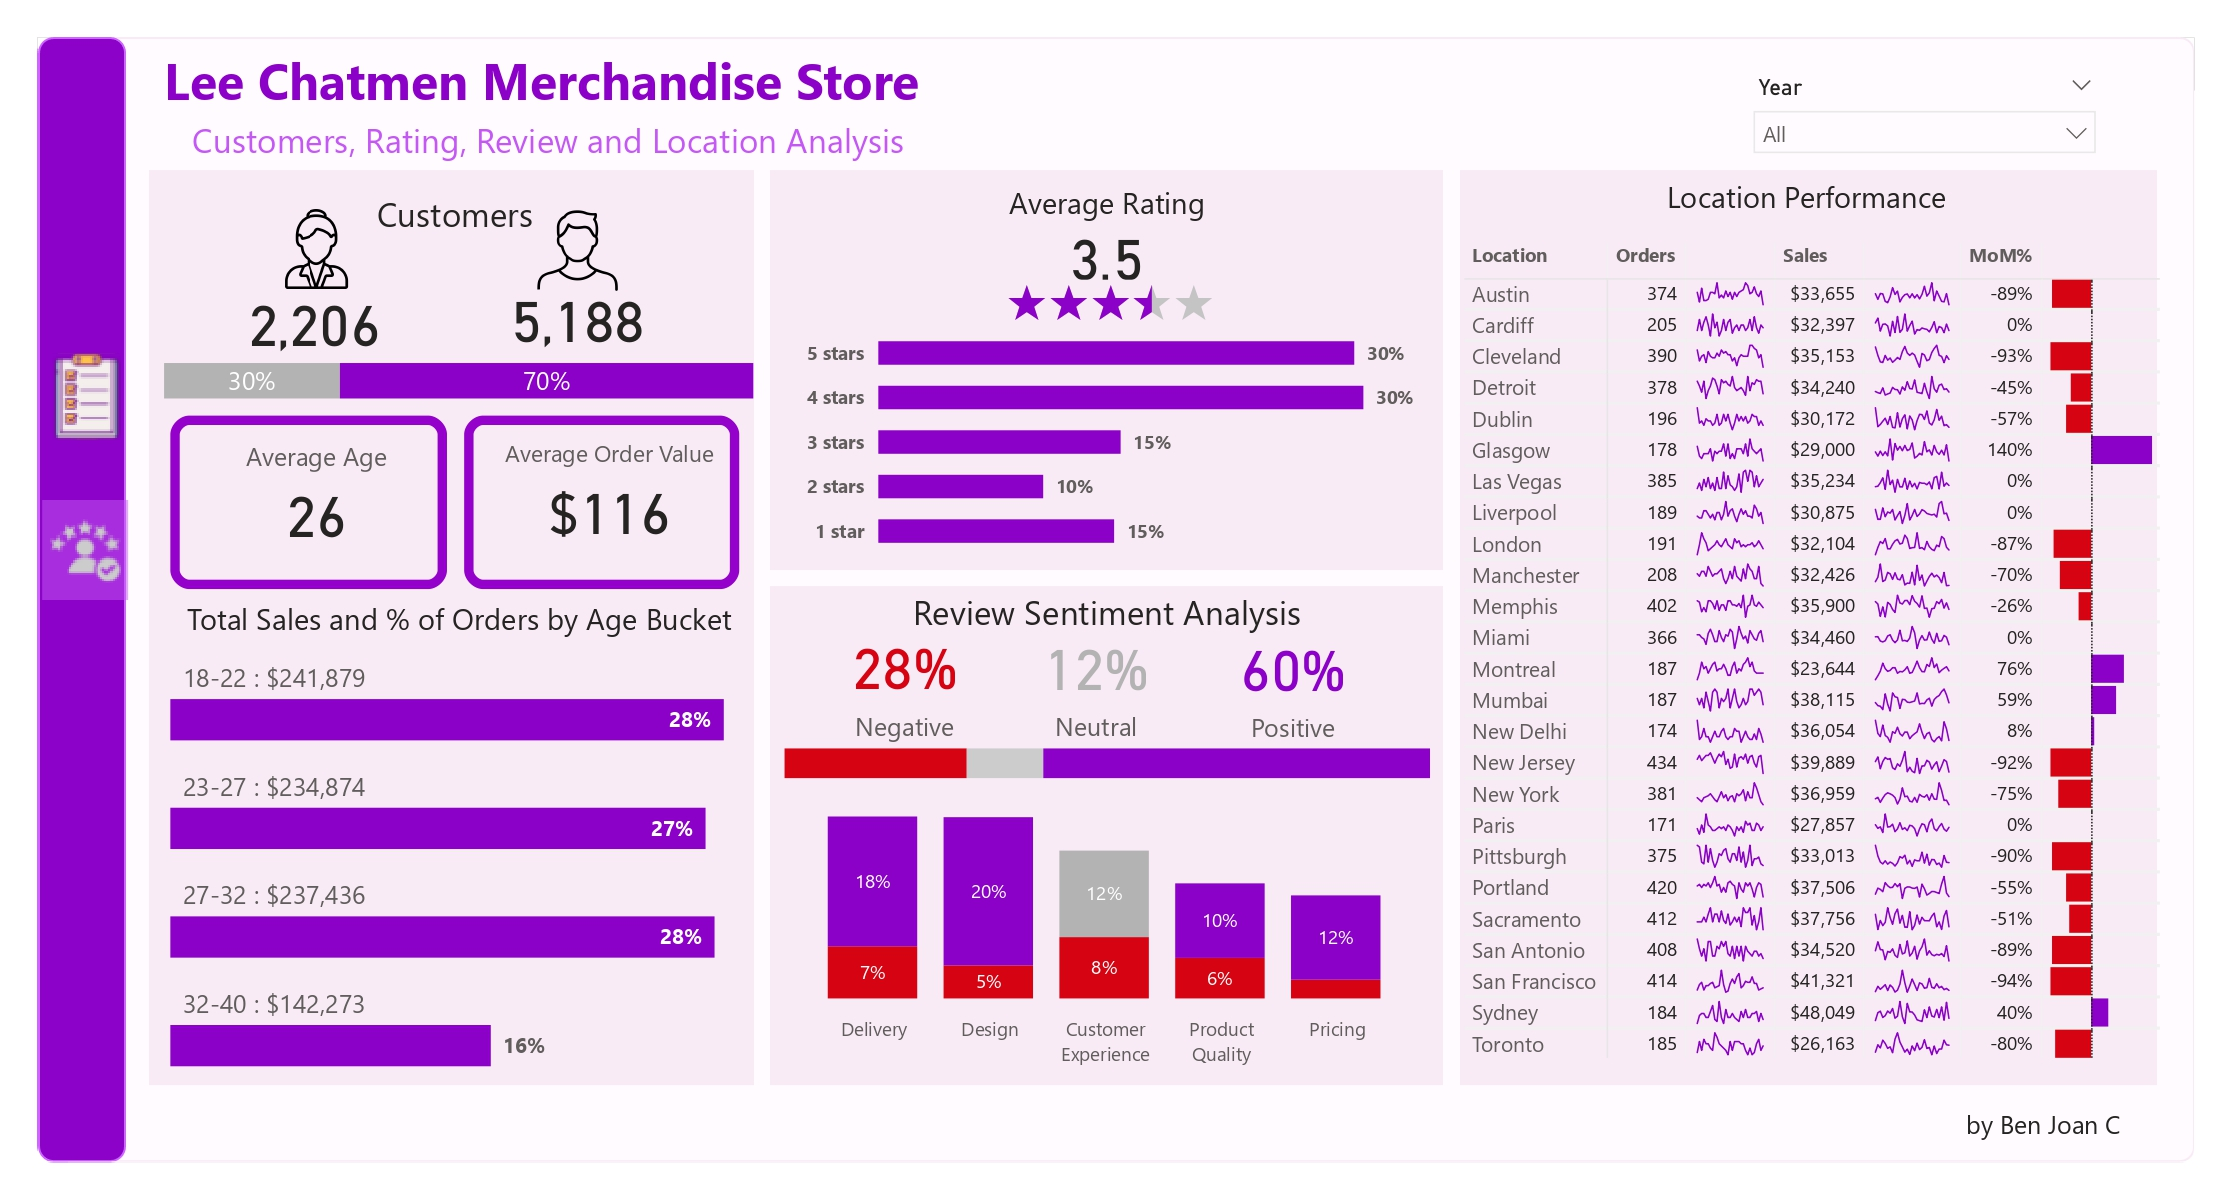

Layout of this report page (visuals, bound fields, positions):
{"tool":"powerbi","page":{"name":"Customers & Review","canvas":[1380,720],"ordinal":1},"visuals":[{"type":"card","title":"Average Rating","fields":{"Values":["_Measures._avg rating"]},"box":[549.4,92.7,270.2,67],"z":0},{"type":"hundredPercentStackedBarChart","fields":{"Y":["_Measures._No of orders"],"Series":["Fact_Data.Buyer Gender"]},"box":[75.9,169.7,387.5,92.7],"z":1000},{"type":"cardVisual","fields":{"Data":["_Measures.Average Order VaLue (AOV)"]},"box":[268,236.7,186.5,121.7],"z":2000},{"type":"hundredPercentStackedBarChart","fields":{"Y":["_Measures._No of orders"],"Series":["Fact_Data.Sentiment"]},"box":[473.5,423.2,422.1,74.8],"z":3000},{"type":"columnChart","title":"Review Sentiment Analysis","fields":{"Category":["Fact_Data.ReviewCategory"],"Series":["Fact_Data.Sentiment"],"Y":["_Measures._No of orders"]},"box":[460.1,461.2,435.5,204.3],"z":4000},{"type":"card","fields":{"Values":["_Measures._positive%"]},"box":[739.2,362.9,128.4,100.5],"z":5000},{"type":"card","fields":{"Values":["_Measures._negative%"]},"box":[485.7,361.8,138.5,100.5],"z":6000},{"type":"card","fields":{"Values":["_Measures._neutral%"]},"box":[616.4,362.9,122.8,99.4],"z":7000},{"type":"clusteredBarChart","fields":{"Category":["Fact_Data.rating_bucket"],"Y":["_Measures._No of orders"]},"box":[485.7,169.7,400.9,170.8],"z":8000},{"type":"pivotTable","fields":{"Rows":["Fact_Data.Order Location"],"Values":["_Measures._No of orders","SparklineData(_Measures._No of orders_[Calender.Day])","_Measures._total sales","SparklineData(_Measures._total sales_[Calender.Day])","_Measures._MoM Sales","_Measures._MoM Sales2"]},"box":[907.8,126.2,462.3,553.8],"z":9000},{"type":"cardVisual","fields":{"Data":["_Measures.Avg Age"]},"box":[80.4,236.7,187.6,121.7],"z":10000},{"type":"group","id":"g1","title":"Group 1","box":[83.7,105,187.6,118.4],"z":11000},{"type":"card","fields":{"Values":["_Measures._Female"]},"box":[83.7,139.7,186.5,83.6],"z":11000,"group":"g1"},{"type":"group","id":"g2","title":"Group 2","box":[252.4,105,186.5,116.1],"z":12000},{"type":"image","box":[301.5,105,88.2,62.5],"z":13000,"group":"g2"},{"type":"ratingsvisual001","fields":{"measure":["_Measures._avg rating"]},"box":[485.7,140.7,400.9,78.2],"z":13000},{"type":"image","box":[127.2,105,100.5,60.8],"z":14000,"group":"g1"},{"type":"clusteredBarChart","title":"Total Sales and % of Orders by Age Bucket","fields":{"Category":["Fact_Data.age_bucket"],"Y":["_Measures._Blank Measures","Divide(_Measures._No of orders, ScopedEval(_Measures._No of orders, []))"]},"box":[80.2,358.5,379.9,307.1],"z":14000},{"type":"card","fields":{"Values":["_Measures._Male"]},"box":[252.4,136.3,186.5,86],"z":15000,"group":"g2"},{"type":"textbox","box":[473.5,348.4,422.1,51.4],"z":15000},{"type":"textbox","box":[80.4,92.7,374.1,48],"z":16000},{"type":"textbox","box":[907.8,83.7,447.8,42.4],"z":17000},{"type":"actionButton","box":[3.3,295.9,54.7,63.6],"z":18000},{"type":"actionButton","box":[0,196.5,62.5,65.9],"z":19000},{"type":"textbox","box":[76.5,0,621.8,71.5],"z":20000},{"type":"textbox","box":[94,46.4,619.3,46.4],"z":21000},{"type":"slicer","fields":{"Values":["Calender.Year"]},"box":[1087.6,19,239,56.9],"z":22000},{"type":"textbox","box":[1229.4,680,126.2,40.2],"z":23000}]}

Visuals, with their boxes on the page's 1380x720 design canvas (x1, y1, x2, y2). These are canvas units, not pixel positions in the 2232x1200 screenshot, which may show the page scaled, cropped or inside an application window:
"Average Rating" card: (549,93,820,160)
hundredPercentStackedBarChart - _Measures._No of orders x Fact_Data.Buyer Gender: (76,170,463,262)
cardVisual - _Measures.Average Order VaLue (AOV): (268,237,454,358)
hundredPercentStackedBarChart - _Measures._No of orders x Fact_Data.Sentiment: (474,423,896,498)
"Review Sentiment Analysis" columnChart: (460,461,896,666)
card - _Measures._positive%: (739,363,868,463)
card - _Measures._negative%: (486,362,624,462)
card - _Measures._neutral%: (616,363,739,462)
clusteredBarChart - Fact_Data.rating_bucket x _Measures._No of orders: (486,170,887,340)
pivotTable - Fact_Data.Order Location x _Measures._No of orders: (908,126,1370,680)
cardVisual - _Measures.Avg Age: (80,237,268,358)
"Group 1" group: (84,105,271,223)
card - _Measures._Female: (84,140,270,223)
"Group 2" group: (252,105,439,221)
image: (302,105,390,168)
ratingsvisual001 - _Measures._avg rating: (486,141,887,219)
image: (127,105,228,166)
"Total Sales and % of Orders by Age Bucket" clusteredBarChart: (80,358,460,666)
card - _Measures._Male: (252,136,439,222)
textbox: (474,348,896,400)
textbox: (80,93,454,141)
textbox: (908,84,1356,126)
actionButton: (3,296,58,360)
actionButton: (0,196,62,262)
textbox: (76,0,698,72)
textbox: (94,46,713,93)
slicer - Calender.Year: (1088,19,1327,76)
textbox: (1229,680,1356,720)
